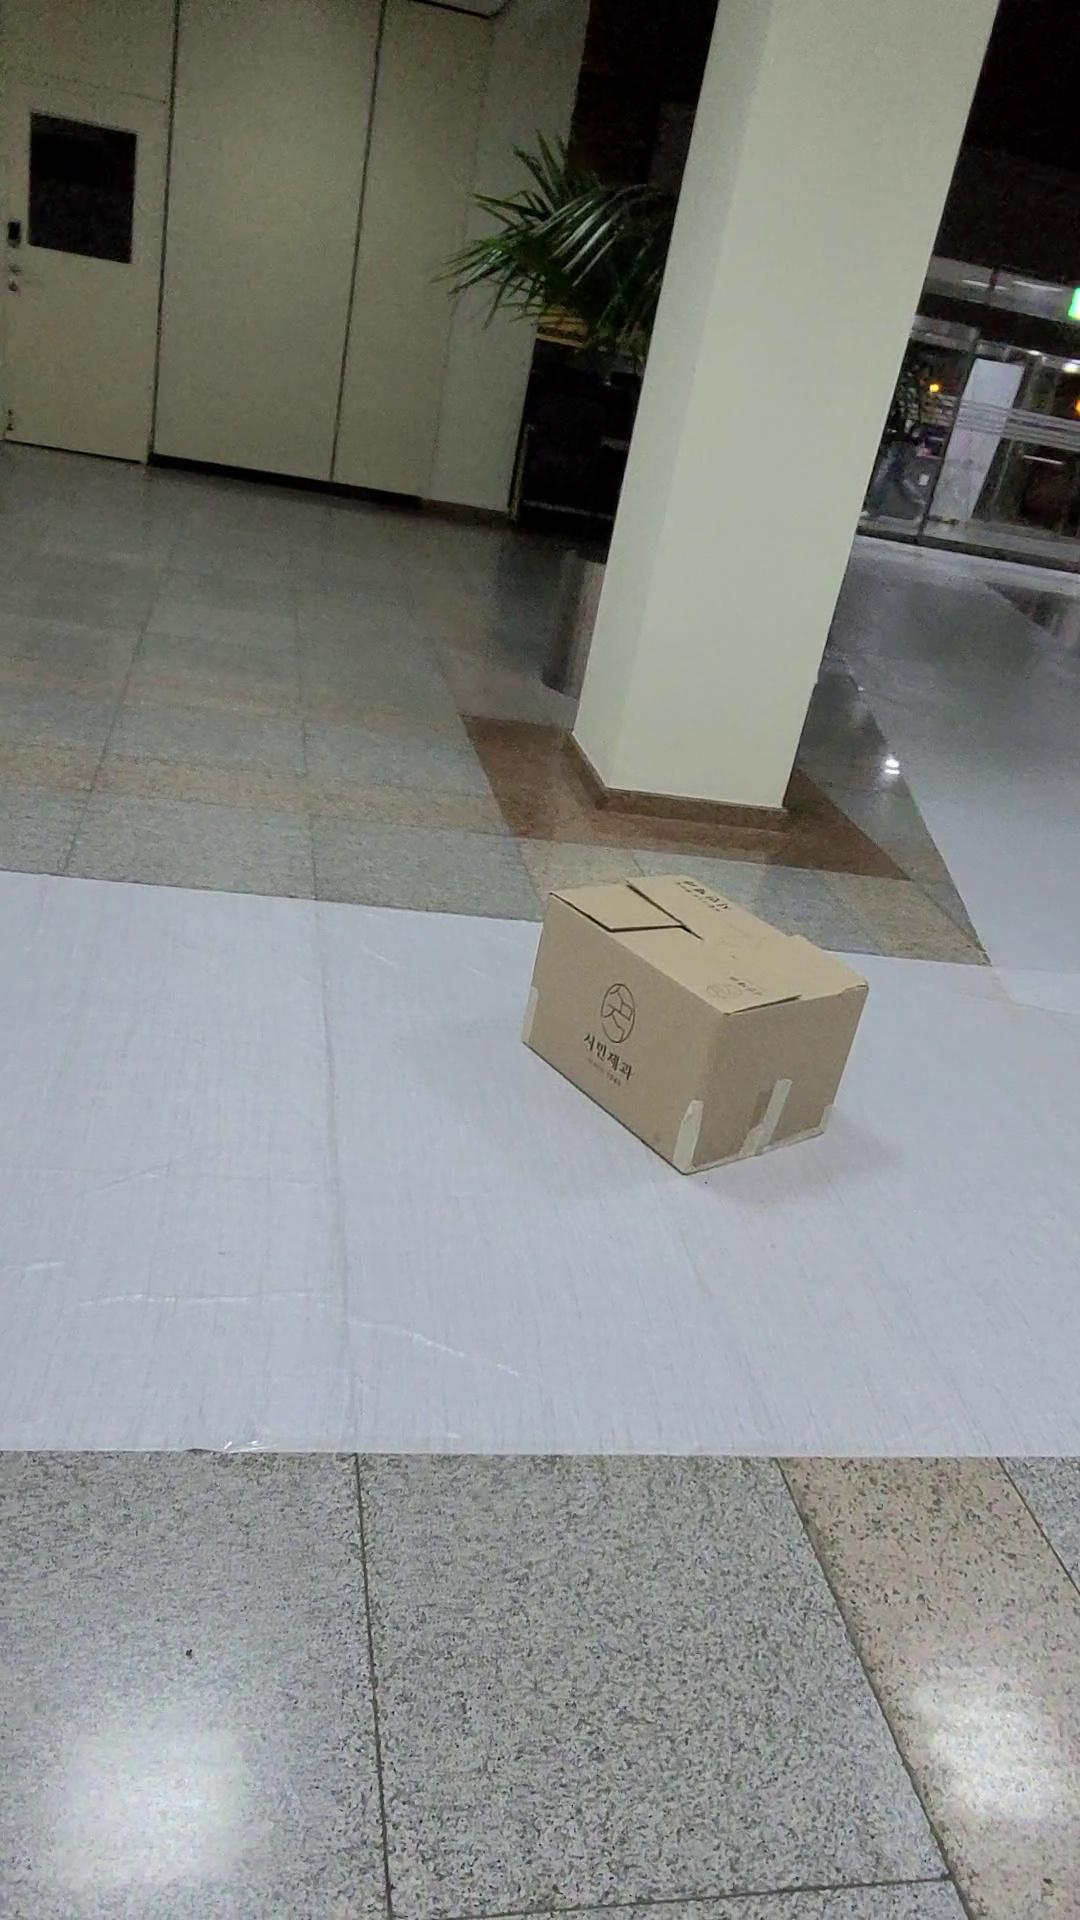Box: (487, 833, 882, 1205)
